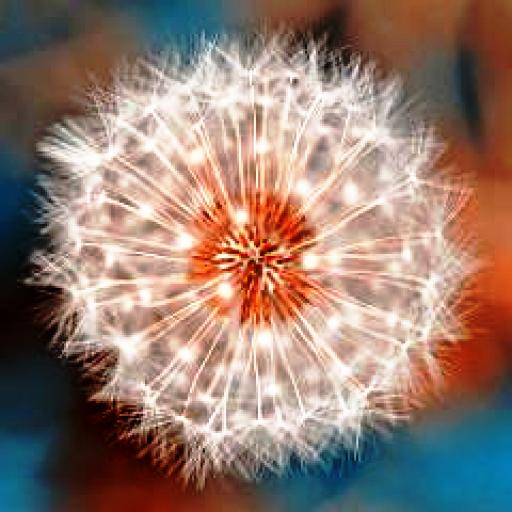dandelion: (30, 25, 495, 478)
